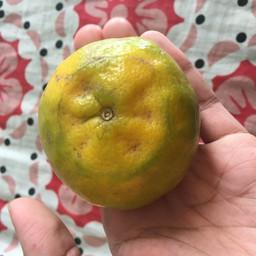Good_orange: (34, 36, 213, 207)
